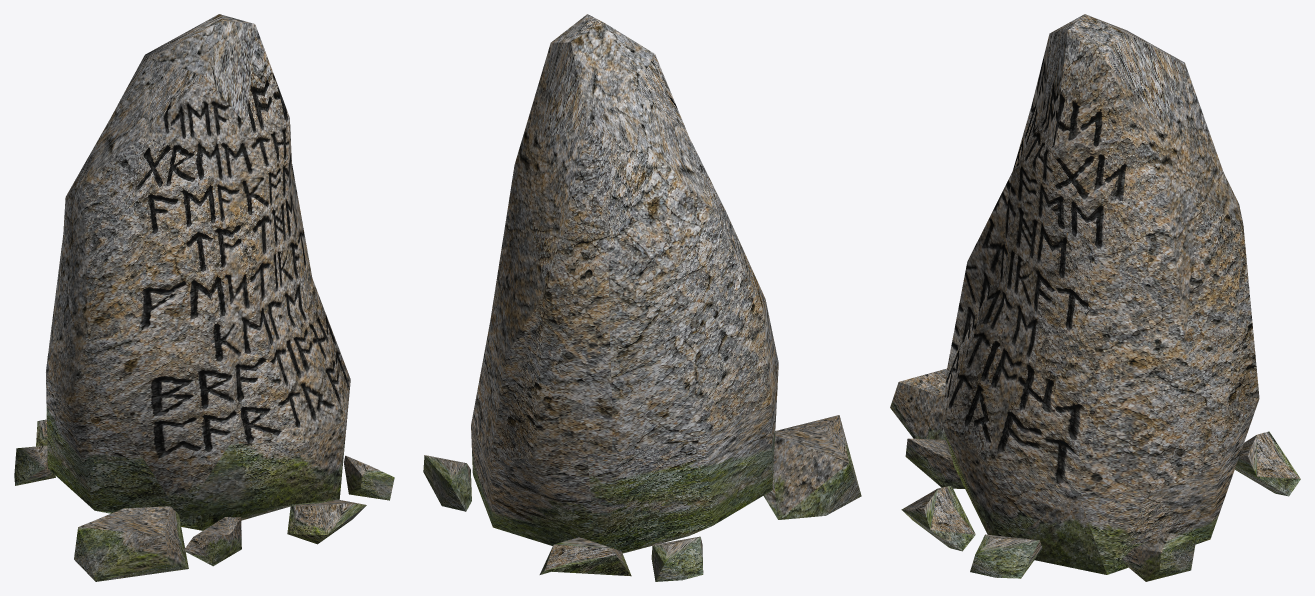
Rendered from mm9_deco_runestone.glb.
3 renders of one model, left to right at view 1: azimuth 30°, elevation 25°; view 2: azimuth 150°, elevation 25°; view 3: azimuth 270°, elevation 25°, orthographic. The views are drawn at different scales.
Visible parts, largest first — view 1: Runestone; view 2: Runestone; view 3: Runestone.
Part boxes in pixels (left/top/right/bottom): Runestone: left=14, top=14, right=394, bottom=581; Runestone: left=423, top=14, right=861, bottom=581; Runestone: left=890, top=14, right=1300, bottom=581.
Bounding box in the file's own units: 1.76 × 2.33 × 1.74.
2 materials, 2 textured.
